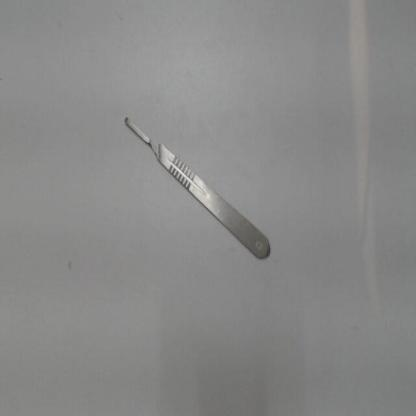No.4 BP Handle: (113, 101, 279, 275)
